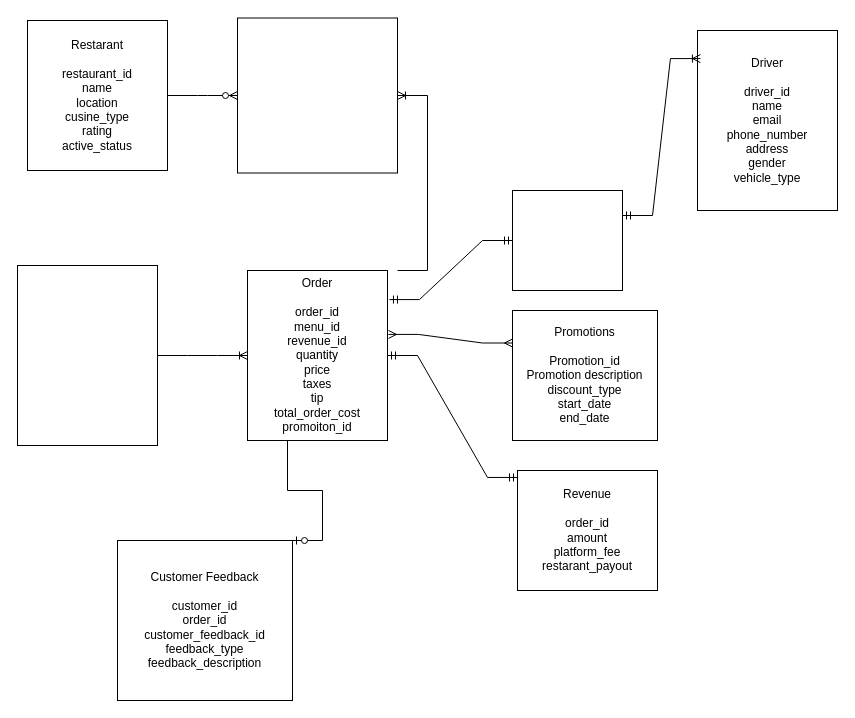
The diagram is 855 pixels wide and 718 high, and some of its shapes have lost their labels. The shapes that lost their labels are listed below. From the top down, each one's centre as x and y in pixels, then its label:
At point 317,95: "Menu Menu_id name category description price availablity restaruant_id".
At point 567,240: "Delivery Deliver_id driver_id status current_location".
At point 87,355: "Customer customer_id name email phone_number signup_date address gender".
